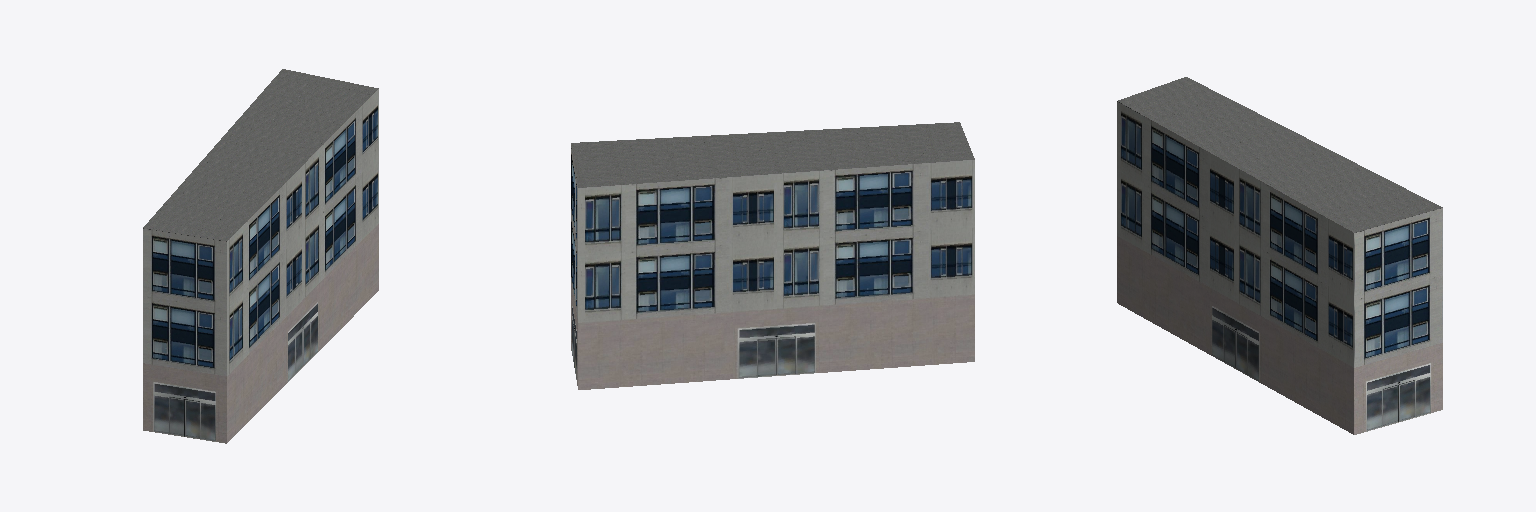
3 views of the same model, side by side, from view 1: azimuth 30°, elevation 25°; view 2: azimuth 150°, elevation 25°; view 3: azimuth 270°, elevation 25° (orthographic).
Parts seen in each view (by area): view 1: BuildingMaster_[number redacted]_0, BuildingMaster_[number redacted]_1; view 2: BuildingMaster_[number redacted]_0, BuildingMaster_[number redacted]_1; view 3: BuildingMaster_[number redacted]_0, BuildingMaster_[number redacted]_1.
Boxes of the visible parts, <box> form: BuildingMaster_[number redacted]_0: <box>143,89,378,443</box>; BuildingMaster_[number redacted]_1: <box>143,69,378,240</box>; BuildingMaster_[number redacted]_0: <box>571,148,974,389</box>; BuildingMaster_[number redacted]_1: <box>571,122,974,187</box>; BuildingMaster_[number redacted]_0: <box>1117,101,1442,434</box>; BuildingMaster_[number redacted]_1: <box>1118,77,1442,232</box>.
Size of the model in its own units: 17.41 by 10.5 by 15.34.
2 materials, 2 textured.